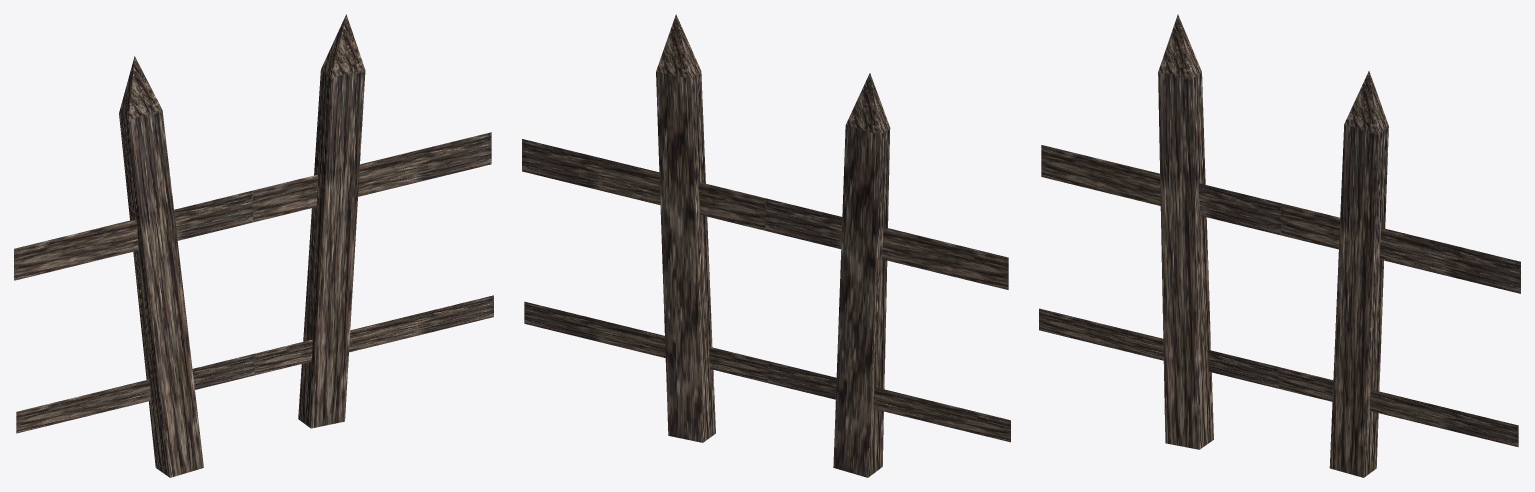
File: stwali1.dae
3 renders of one model, left to right at view 1: azimuth 30°, elevation 25°; view 2: azimuth 150°, elevation 25°; view 3: azimuth 330°, elevation 25°, orthographic.
Parts seen in each view (by area): view 1: fence00; view 2: fence00; view 3: fence00.
Boxes of the visible parts, bbox=[...] form: fence00: bbox=[14, 14, 493, 477]; fence00: bbox=[522, 14, 1010, 477]; fence00: bbox=[1039, 14, 1520, 477].
Size of the model in its own units: 1.35 by 0.1318 by 1.1.
Materials: 1 (1 with a texture image).
